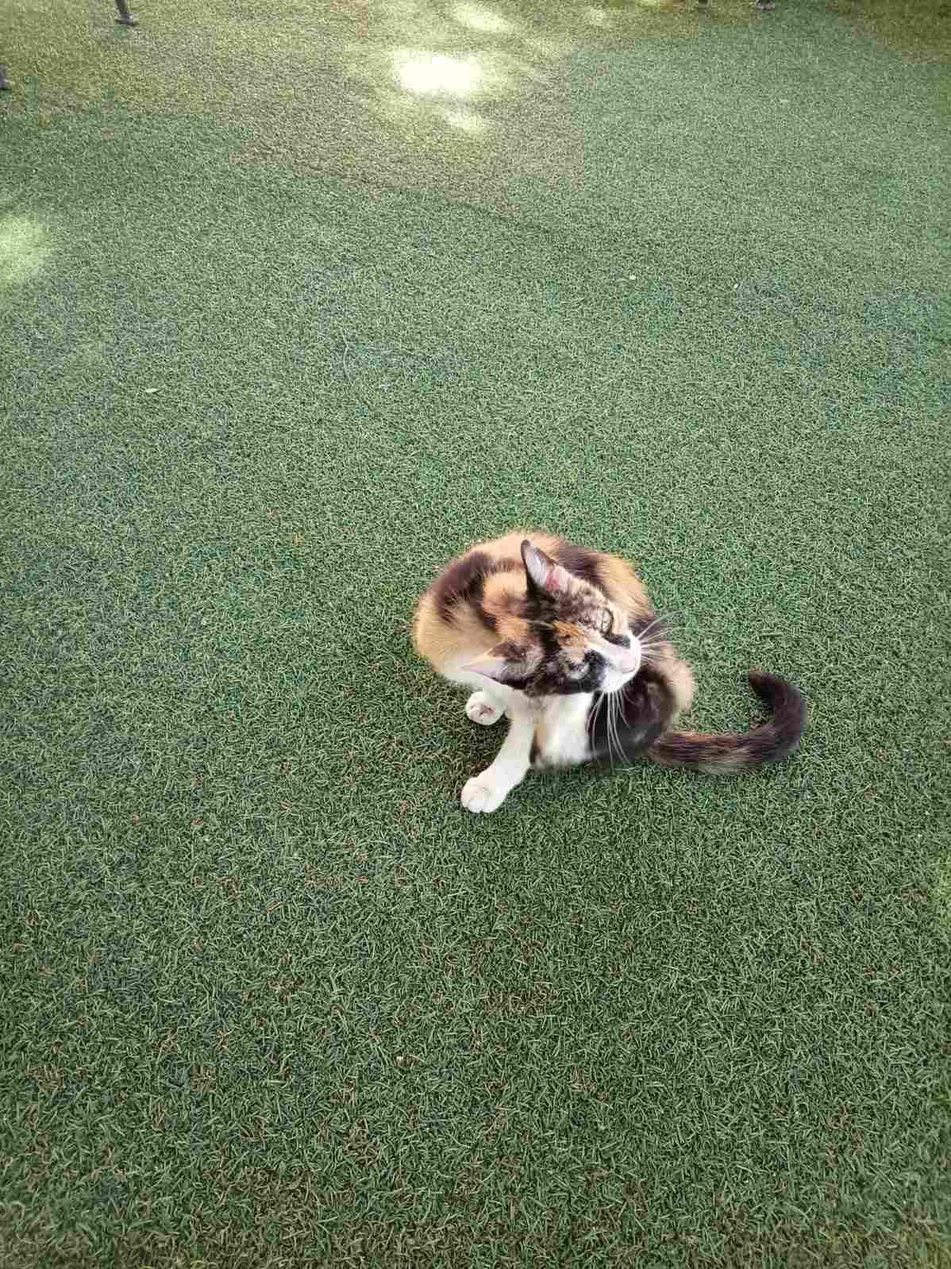macka: (411, 530, 810, 815)
